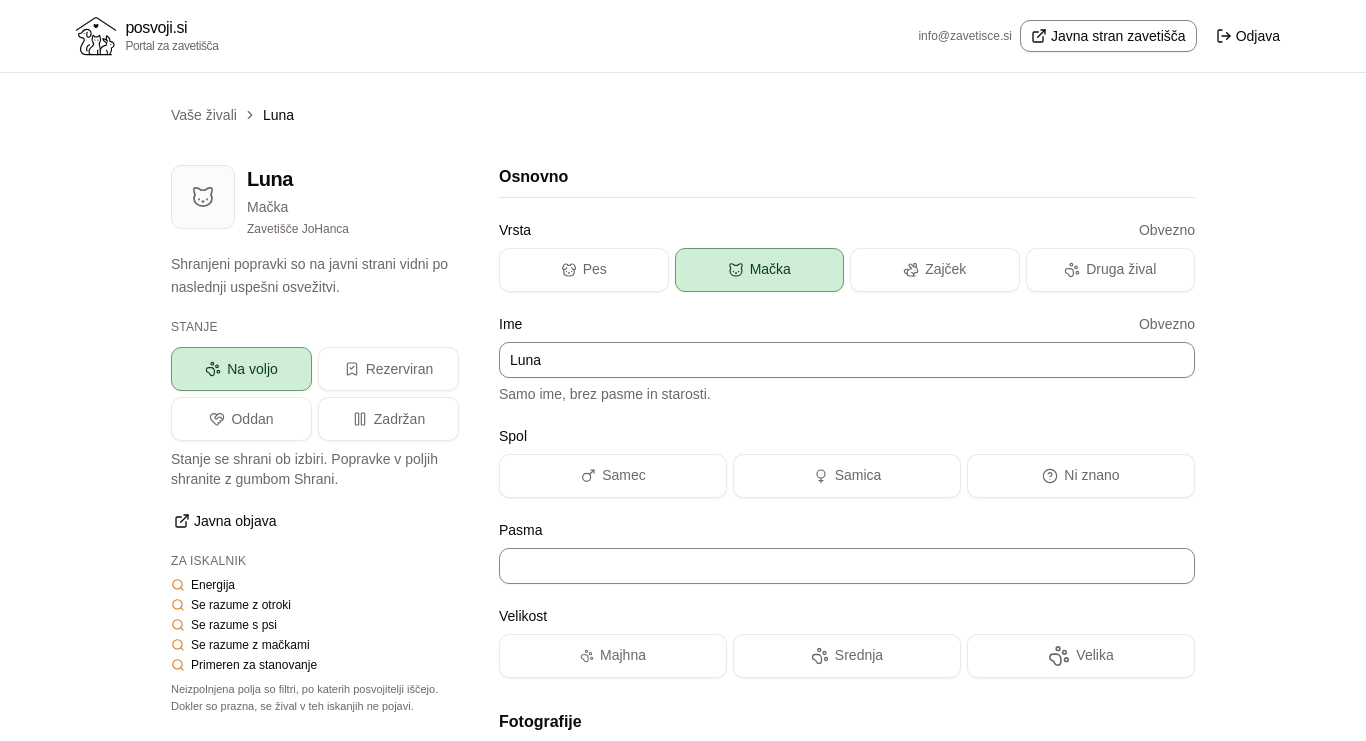
Test: a save that did not go through › is taken down once the shelter edits a field
Step 1. Replace the text in the field labelled "Ime" with "Lunica" → x=847, y=360, box [499,342,1195,378]
(page scrolled)
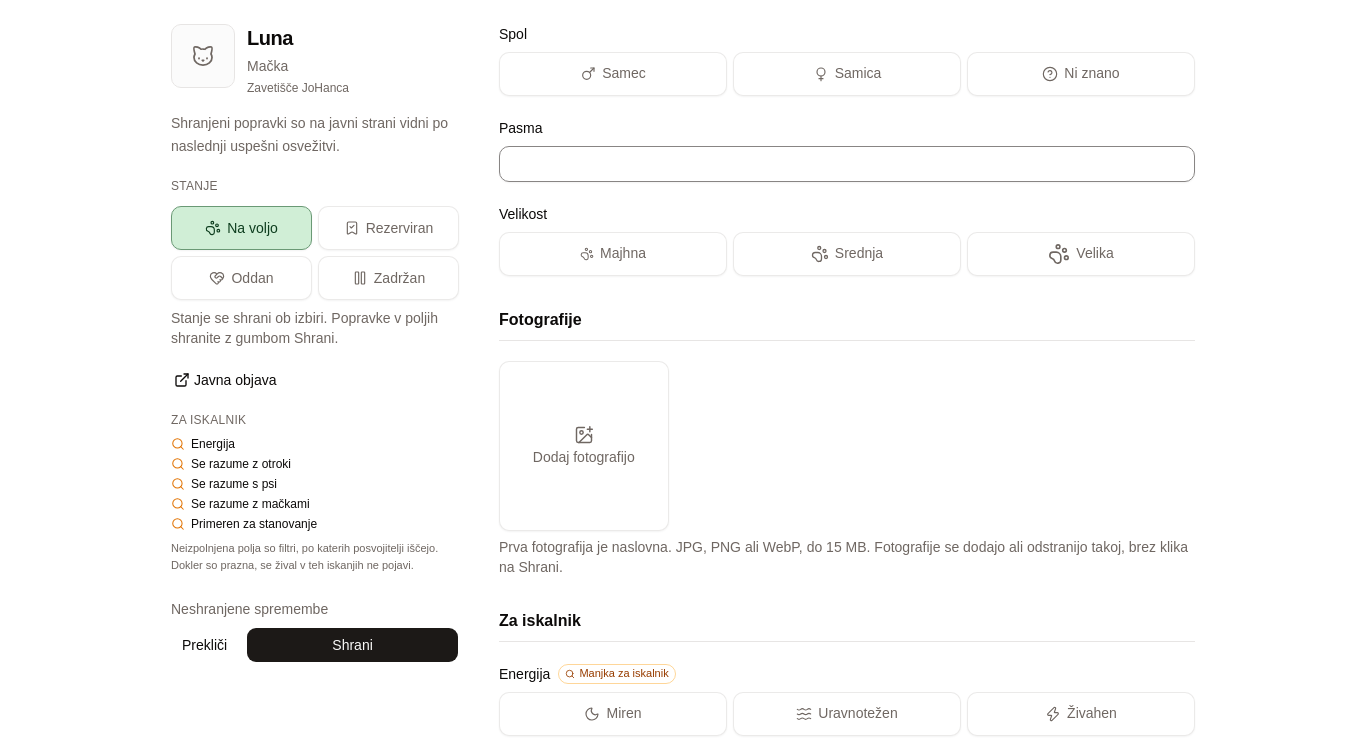
Step 2. Click the button "Shrani" → x=353, y=645, box [246,627,459,663]
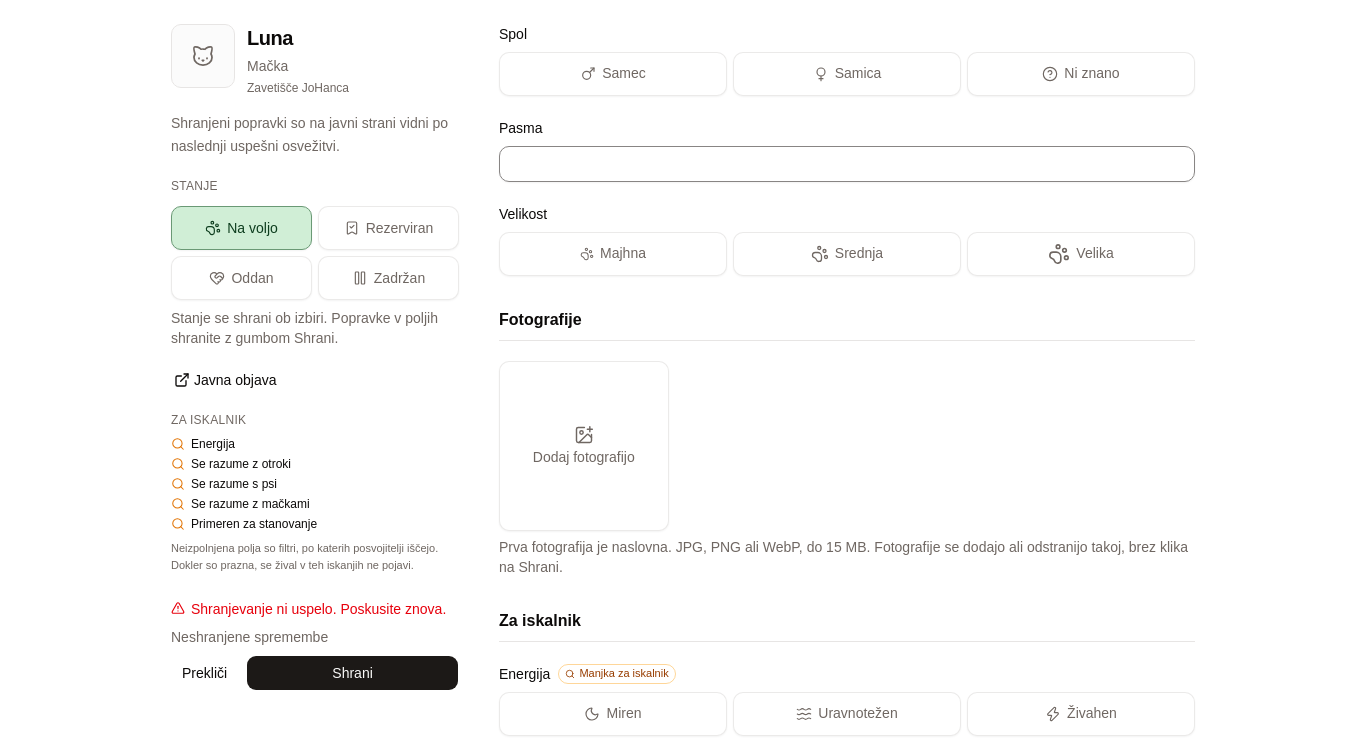
Result: the message "Shranjevanje ni uspelo. Poskusite znova." is shown at [171,599,459,619]
Step 3. Type "mešanec" into the field labelled "Pasma" → x=847, y=164, box [499,146,1195,182]
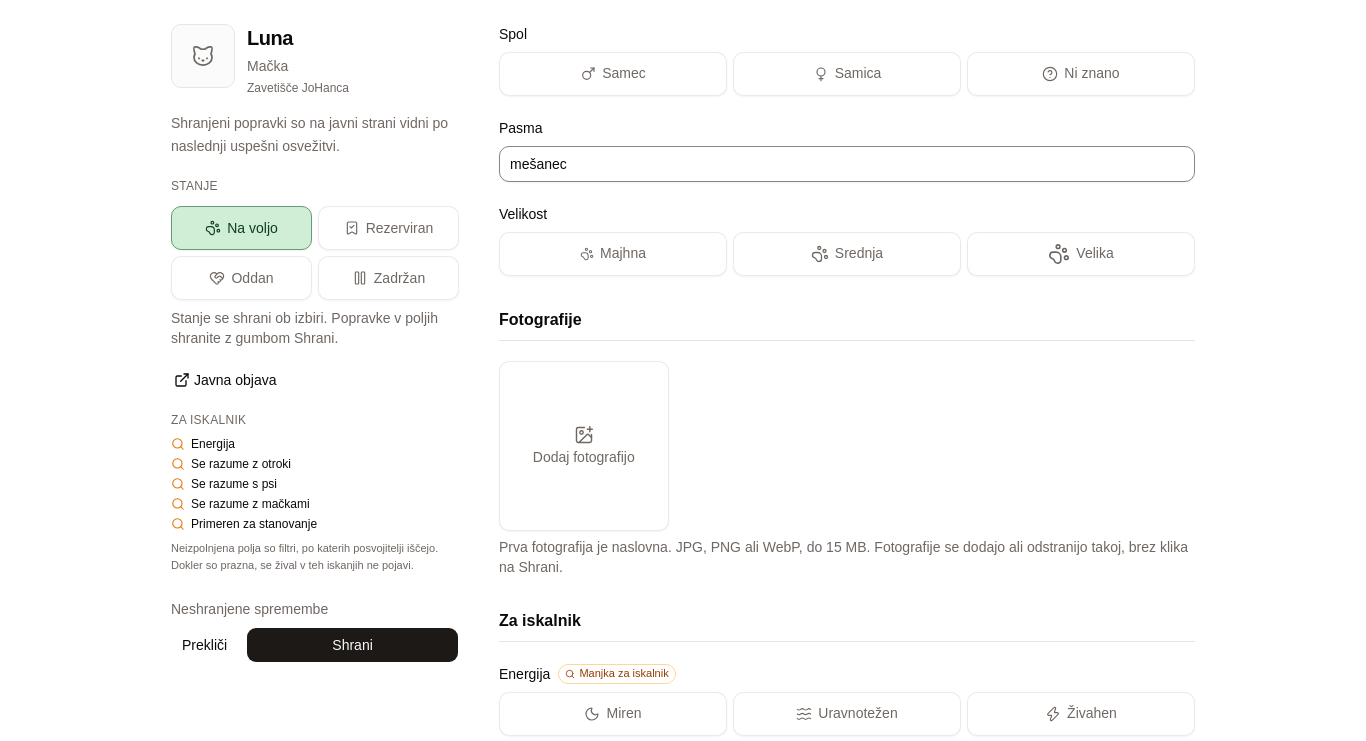
Result: the message "Shranjevanje ni uspelo. Poskusite znova." is gone
